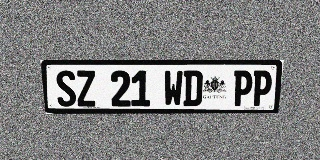1: (130, 70, 150, 106)
2: (110, 70, 131, 106)
D: (183, 70, 203, 106)
P: (251, 70, 273, 106), (232, 70, 253, 106)
S: (55, 70, 77, 107)
W: (164, 70, 183, 106)
Z: (75, 70, 97, 106)
